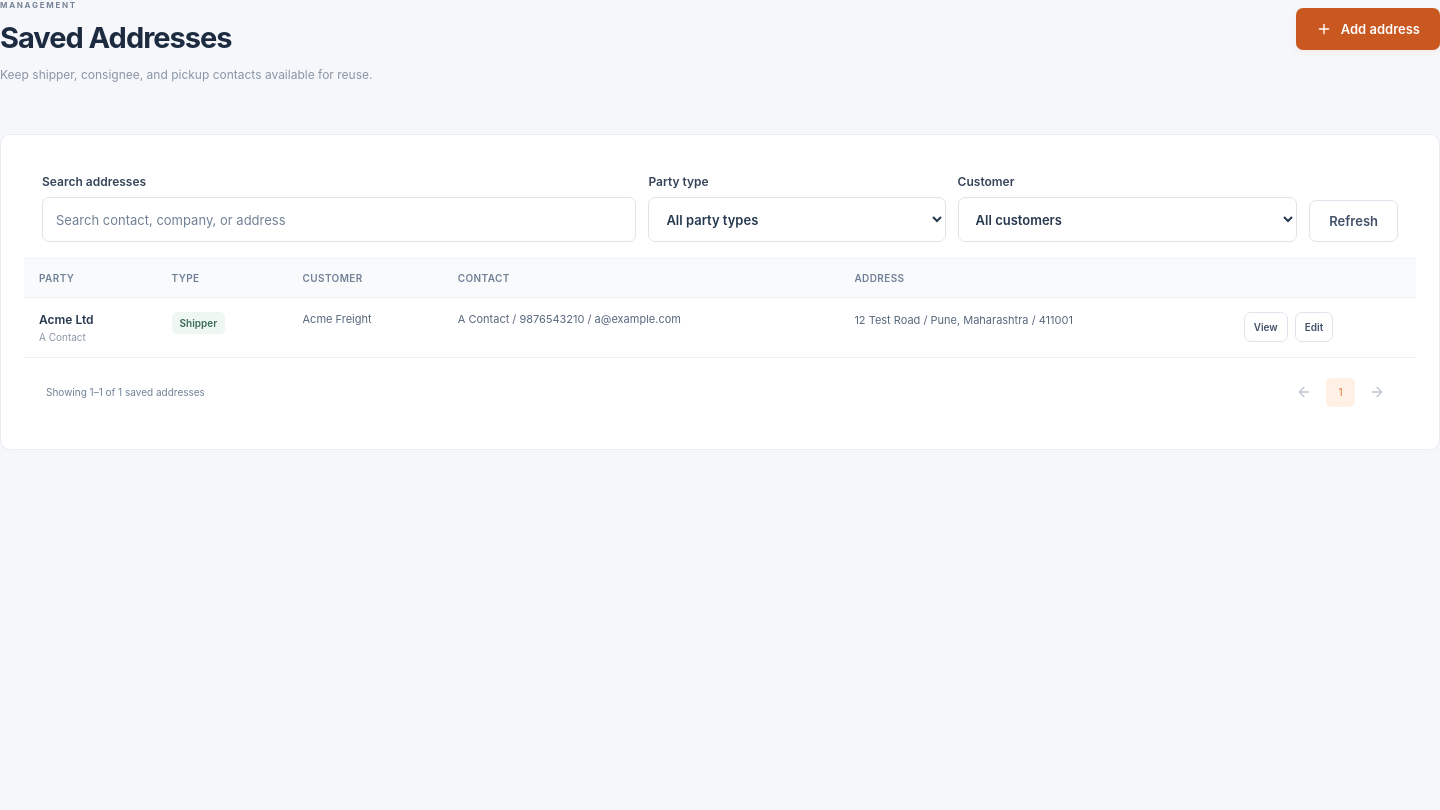
Scenario: views address details through the by-ID API
What coordinates should you click on to do the following:
click the button with aria-label "View Acme Ltd"
I would click on:
 (1266, 328)
Its box is [1244, 312, 1288, 342].
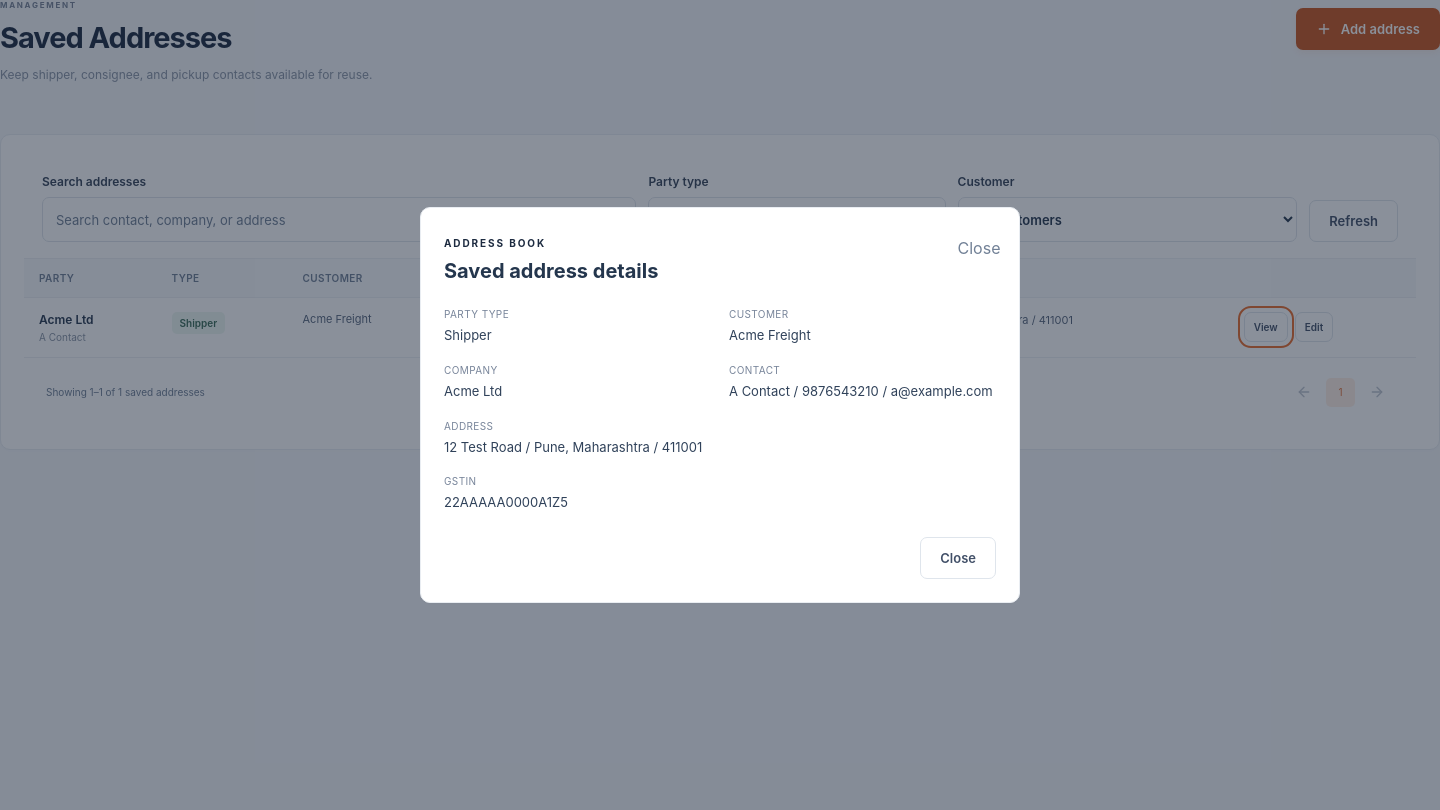
Expected: the dialog "Saved address details" is shown, [420, 207, 1020, 603]
Expected: the text "12 Test Road / Pune, Maharashtra / 411001" is shown, [444, 438, 702, 454]
